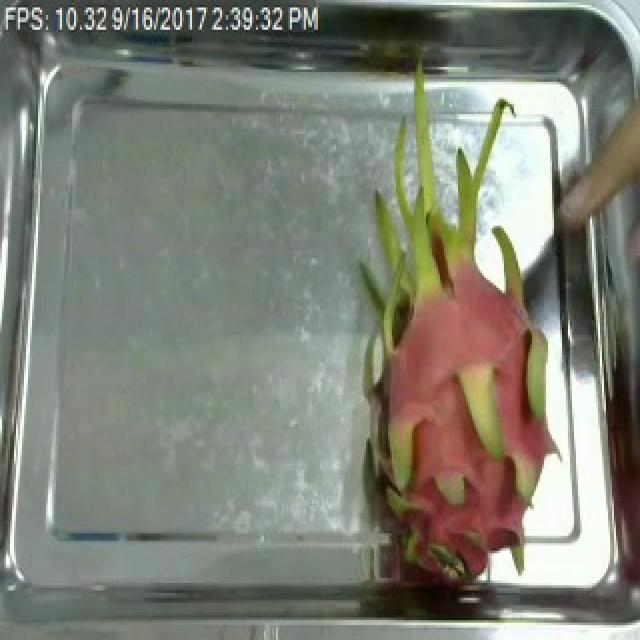fruit: (308, 171, 610, 603)
